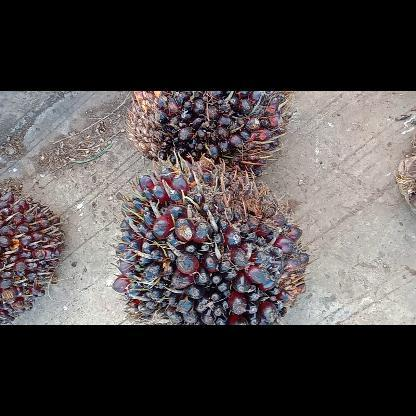TBS mentah: (112, 160, 308, 324), (127, 90, 289, 174), (0, 188, 63, 324)
